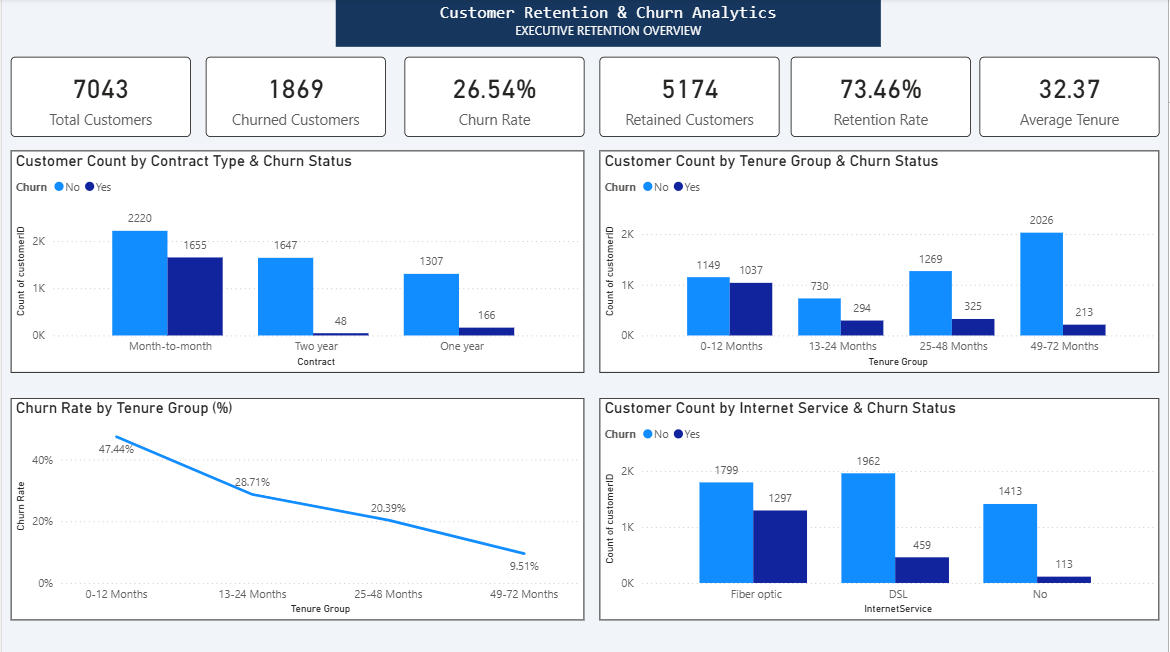

The dashboard page shown, as its layout file describes it:
{"tool":"powerbi","page":{"name":"Executive Retention Overview","canvas":[1280,720],"ordinal":0},"visuals":[{"type":"textbox","box":[366.4,0,598.3,53.5],"z":0},{"type":"card","fields":{"Values":["cleaned_telco_churn.Total Customers"]},"box":[9.6,64.5,197.6,87.8],"z":1000},{"type":"card","fields":{"Values":["cleaned_telco_churn.Churned Customers"]},"box":[223.7,64.5,197.6,87.8],"z":2000},{"type":"card","fields":{"Values":["cleaned_telco_churn.Average Tenure"]},"box":[1073.1,64.5,197.6,87.8],"z":3000},{"type":"card","fields":{"Values":["cleaned_telco_churn.Retained Customers"]},"box":[655.9,64.5,197.6,87.8],"z":4000},{"type":"card","fields":{"Values":["cleaned_telco_churn.Retention Rate"]},"box":[865.9,64.5,197.6,87.8],"z":5000},{"type":"card","fields":{"Values":["cleaned_telco_churn.Churn Rate"]},"box":[441.9,64.5,197.6,87.8],"z":6000},{"type":"clusteredColumnChart","title":"Customer Count by Contract Type & Churn Status","fields":{"Category":["cleaned_telco_churn.Contract"],"Y":["Count(cleaned_telco_churn.customerID)"],"Series":["cleaned_telco_churn.Churn"]},"box":[9.6,167.4,629.8,244.3],"z":7000},{"type":"clusteredColumnChart","title":"Customer Count by Tenure Group & Churn Status","fields":{"Category":["cleaned_telco_churn.Tenure Group"],"Y":["Count(cleaned_telco_churn.customerID)"],"Series":["cleaned_telco_churn.Churn"]},"box":[655.9,167.4,614.8,244.3],"z":8000},{"type":"lineChart","title":"Churn Rate by Tenure Group (%)","fields":{"Category":["cleaned_telco_churn.Tenure Group"],"Y":["cleaned_telco_churn.Churn Rate"]},"box":[9.6,439.1,629.8,244.3],"z":9000},{"type":"clusteredColumnChart","title":"Customer Count by Internet Service & Churn Status","fields":{"Category":["cleaned_telco_churn.InternetService"],"Y":["Count(cleaned_telco_churn.customerID)"],"Series":["cleaned_telco_churn.Churn"]},"box":[655.9,439.1,614.8,244.3],"z":10000}]}

Visuals, with their boxes in screenshot pixels (x1, y1, x2, y2), scaled from the page's 1280x720 canvas onto the 1170x652 screenshot:
textbox: BBox(335, 0, 882, 48)
card - cleaned_telco_churn.Total Customers: BBox(9, 58, 189, 138)
card - cleaned_telco_churn.Churned Customers: BBox(204, 58, 385, 138)
card - cleaned_telco_churn.Average Tenure: BBox(981, 58, 1161, 138)
card - cleaned_telco_churn.Retained Customers: BBox(600, 58, 780, 138)
card - cleaned_telco_churn.Retention Rate: BBox(791, 58, 972, 138)
card - cleaned_telco_churn.Churn Rate: BBox(404, 58, 585, 138)
"Customer Count by Contract Type & Churn Status" clusteredColumnChart: BBox(9, 152, 584, 373)
"Customer Count by Tenure Group & Churn Status" clusteredColumnChart: BBox(600, 152, 1161, 373)
"Churn Rate by Tenure Group (%)" lineChart: BBox(9, 398, 584, 619)
"Customer Count by Internet Service & Churn Status" clusteredColumnChart: BBox(600, 398, 1161, 619)
